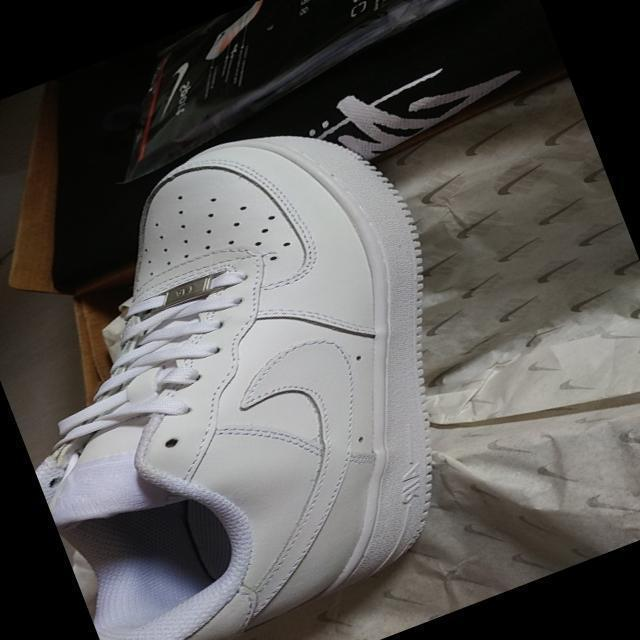nike fake air force: (0, 87, 533, 640)
